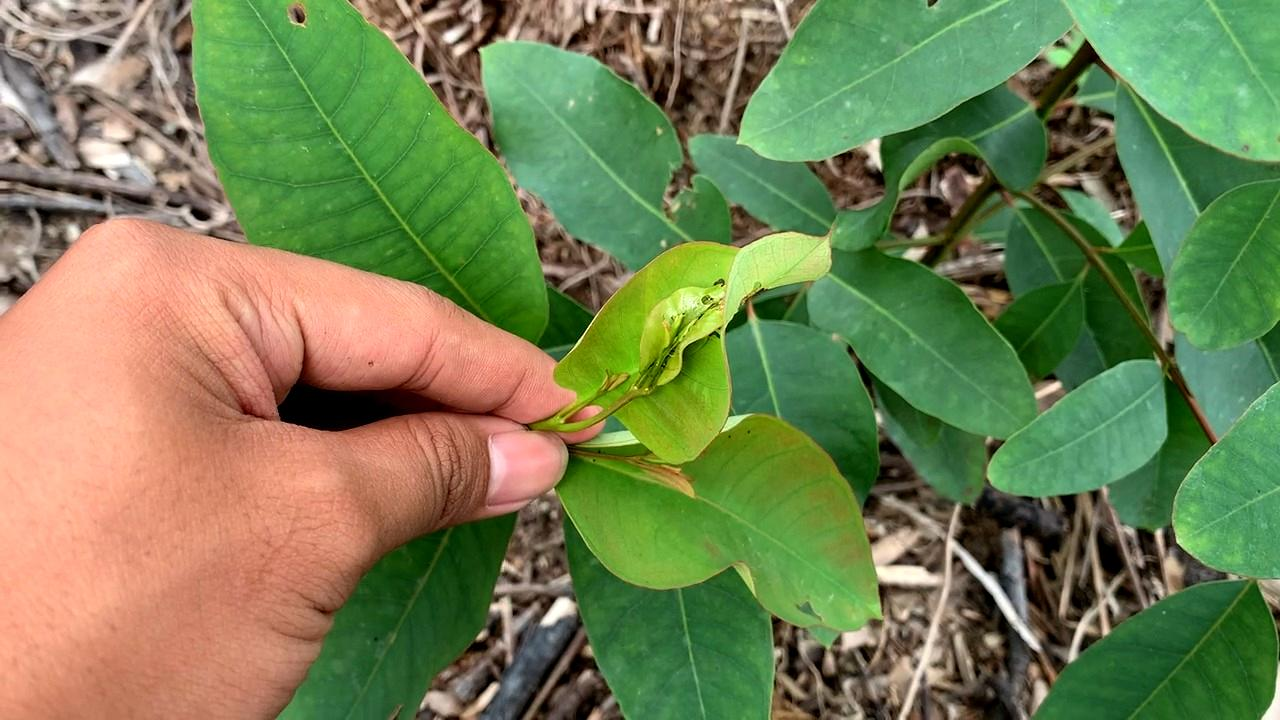Leaf Roller - Leaf: (563, 233, 836, 464)
